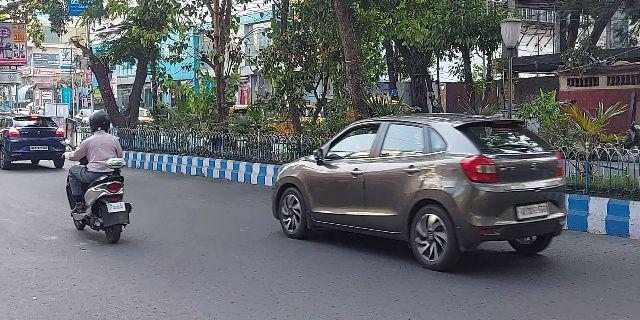Car: (263, 109, 572, 275), (1, 111, 67, 172)
Motorbike: (60, 110, 136, 247)
